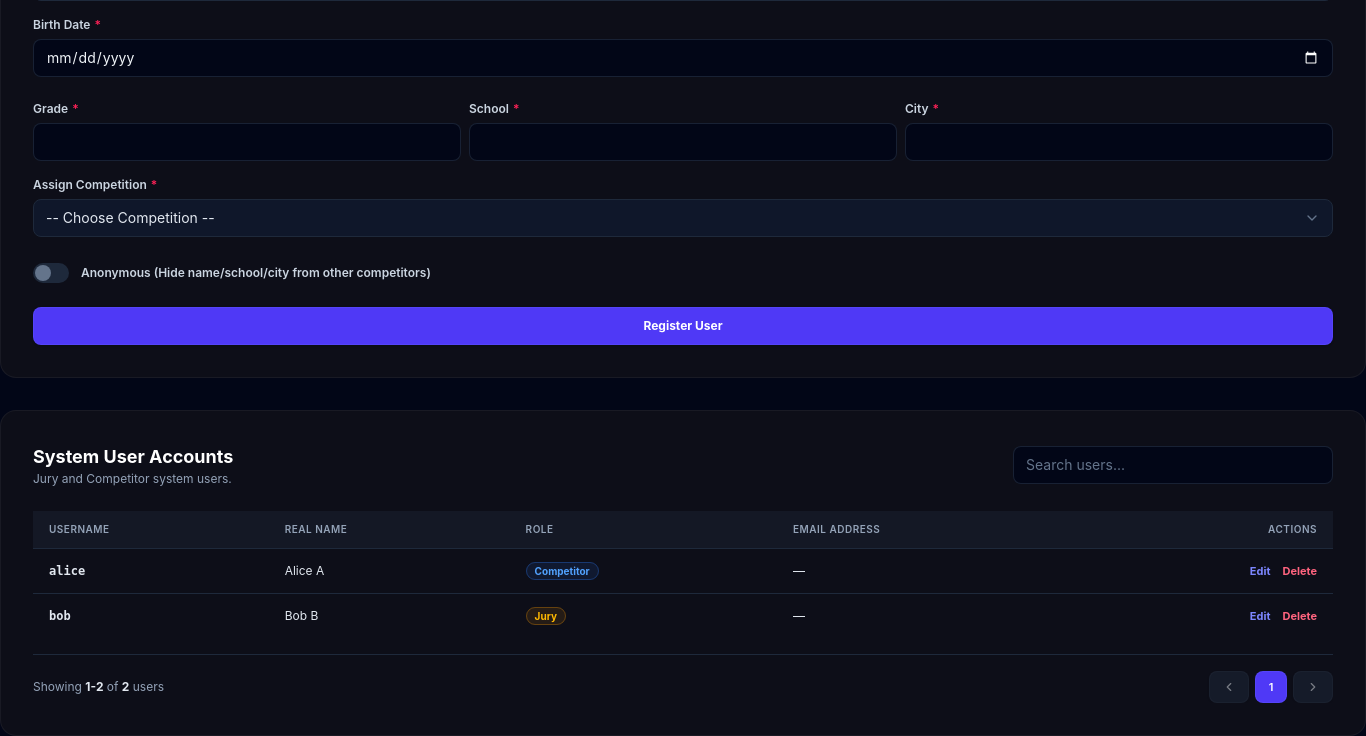
it: UserManager – user list section (lines 187+) › opens edit form with user data when Edit is clicked
This screenshot has width=1366, height=736.
(page scrolled)
What coordinates should you click on to do the following:
click the 1st button "Edit"
I would click on:
 (1260, 572)
Its box is [1250,564,1270,579].
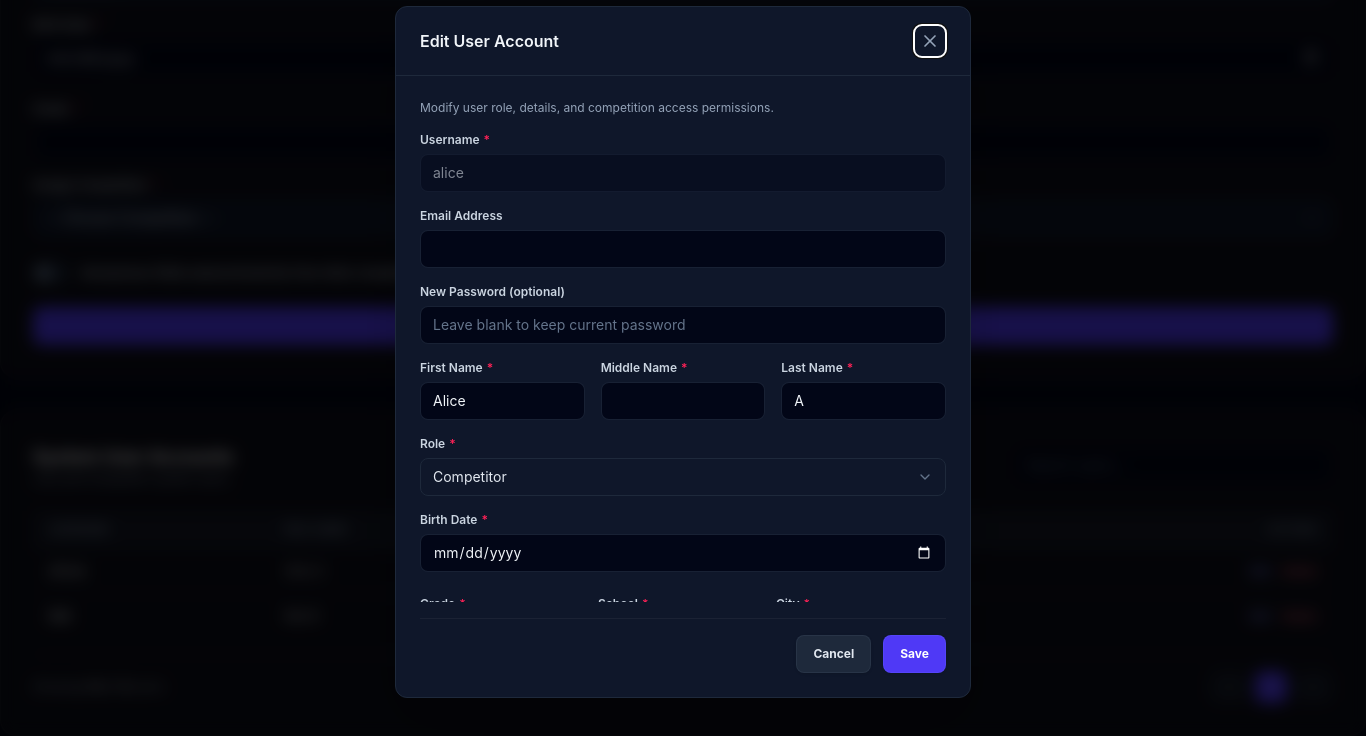
Expected: the heading "Edit User Account" is shown, [420,29,559,53]
Expected: the field showing "alice" is shown, [420,154,946,192]
